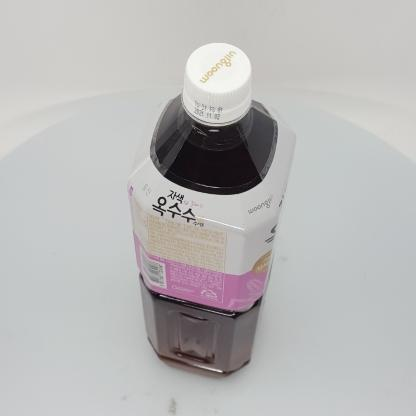----------1-5L: (127, 42, 297, 379)
